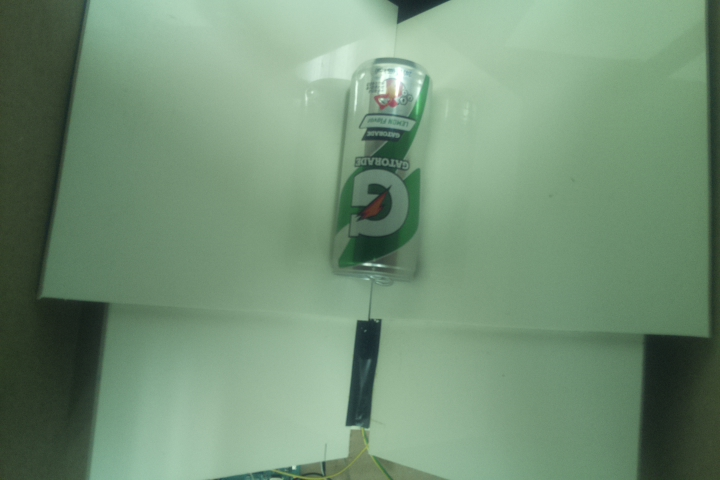can: (329, 55, 431, 287)
